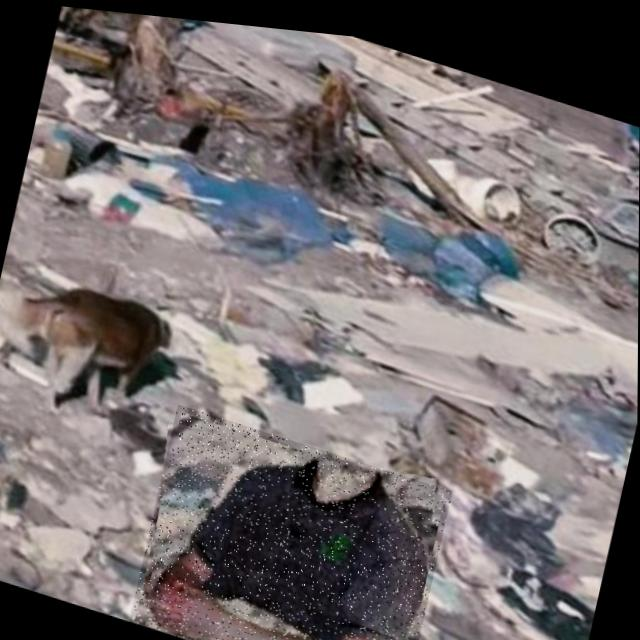Person in Rubble: (129, 396, 453, 640)
